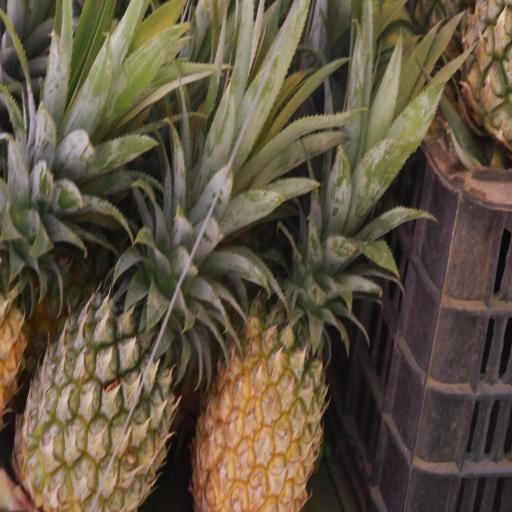Pineapple - v8 v1: (186, 240, 348, 512)
